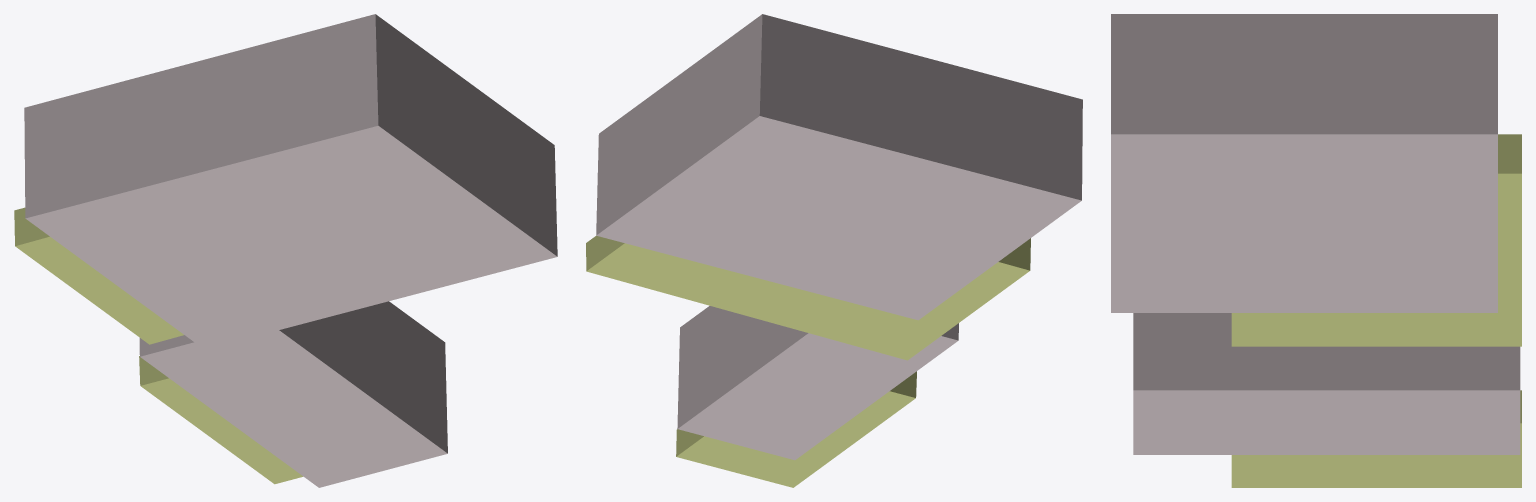
3 views of the same model, side by side, from view 1: azimuth 30°, elevation 25°; view 2: azimuth 150°, elevation 25°; view 3: azimuth 270°, elevation 25° (orthographic). The views are drawn at different scales.
Visible parts, largest first — view 1: 0_2_1_0_0_0_0_0_1; view 2: 0_2_1_0_0_0_0_0_1; view 3: 0_2_1_0_0_0_0_0_1.
Part boxes in pixels (<box>): 0_2_1_0_0_0_0_0_1: <box>14,14,557,487</box>; 0_2_1_0_0_0_0_0_1: <box>586,14,1082,487</box>; 0_2_1_0_0_0_0_0_1: <box>1111,14,1521,487</box>.
Size of the model in its own units: 13.68 by 12.02 by 12.74.
